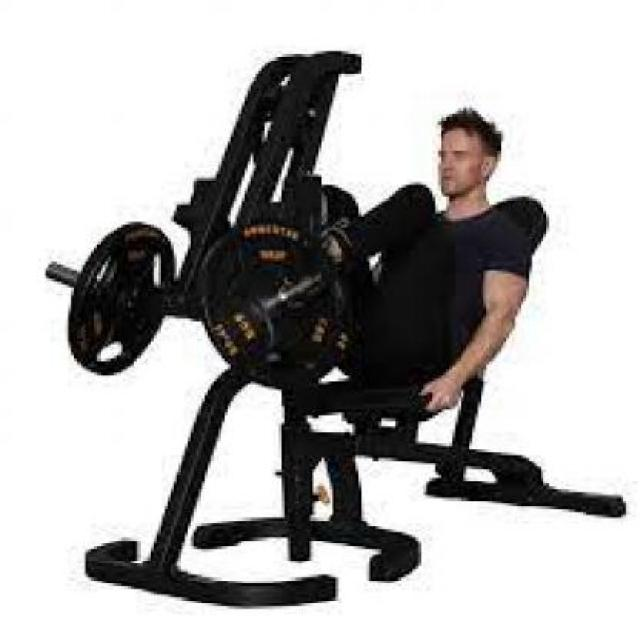leg press: (24, 18, 640, 639)
